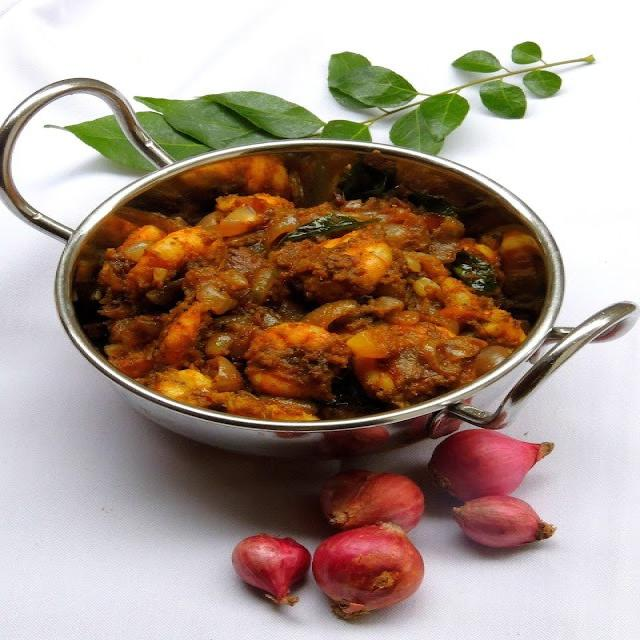prawn thokku: (61, 166, 519, 422)
